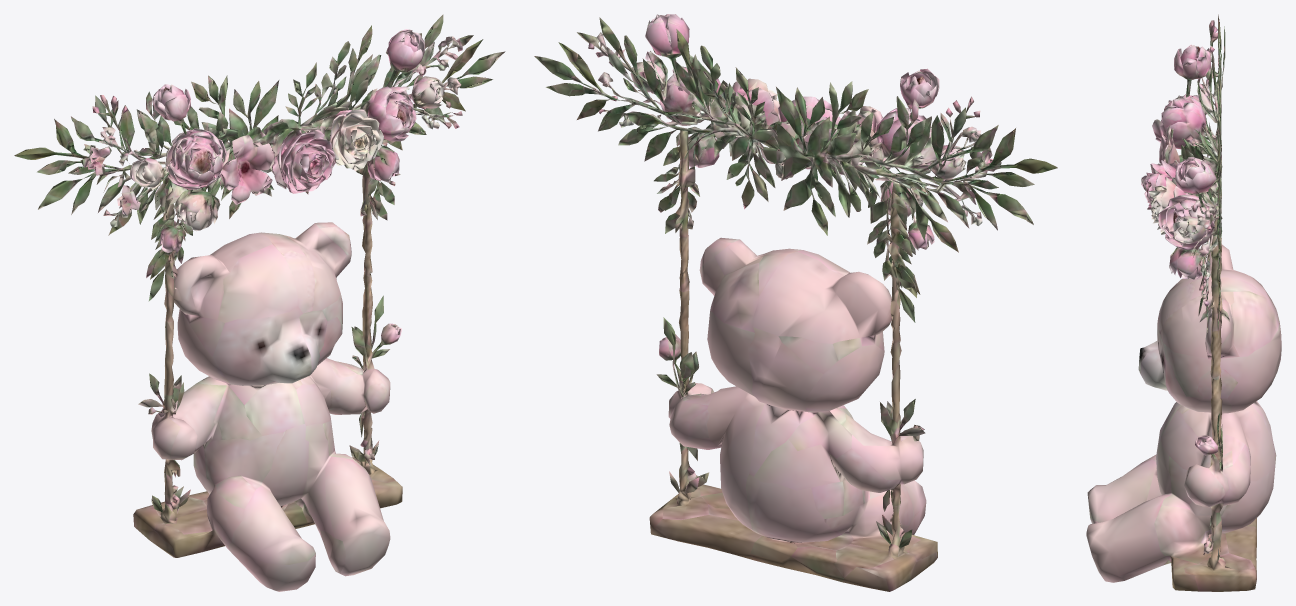
3 views of the same model, side by side, from view 1: azimuth 30°, elevation 25°; view 2: azimuth 150°, elevation 25°; view 3: azimuth 270°, elevation 25° (orthographic). The views are drawn at different scales.
Bounding box in the file's own units: 1.9 × 1.83 × 0.6879.
Materials: 1 (1 with a texture image).
